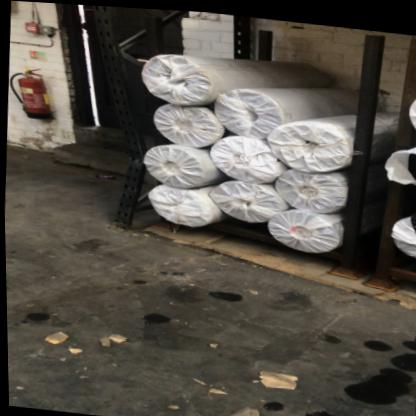vertical_damage: (99, 106, 157, 183)
